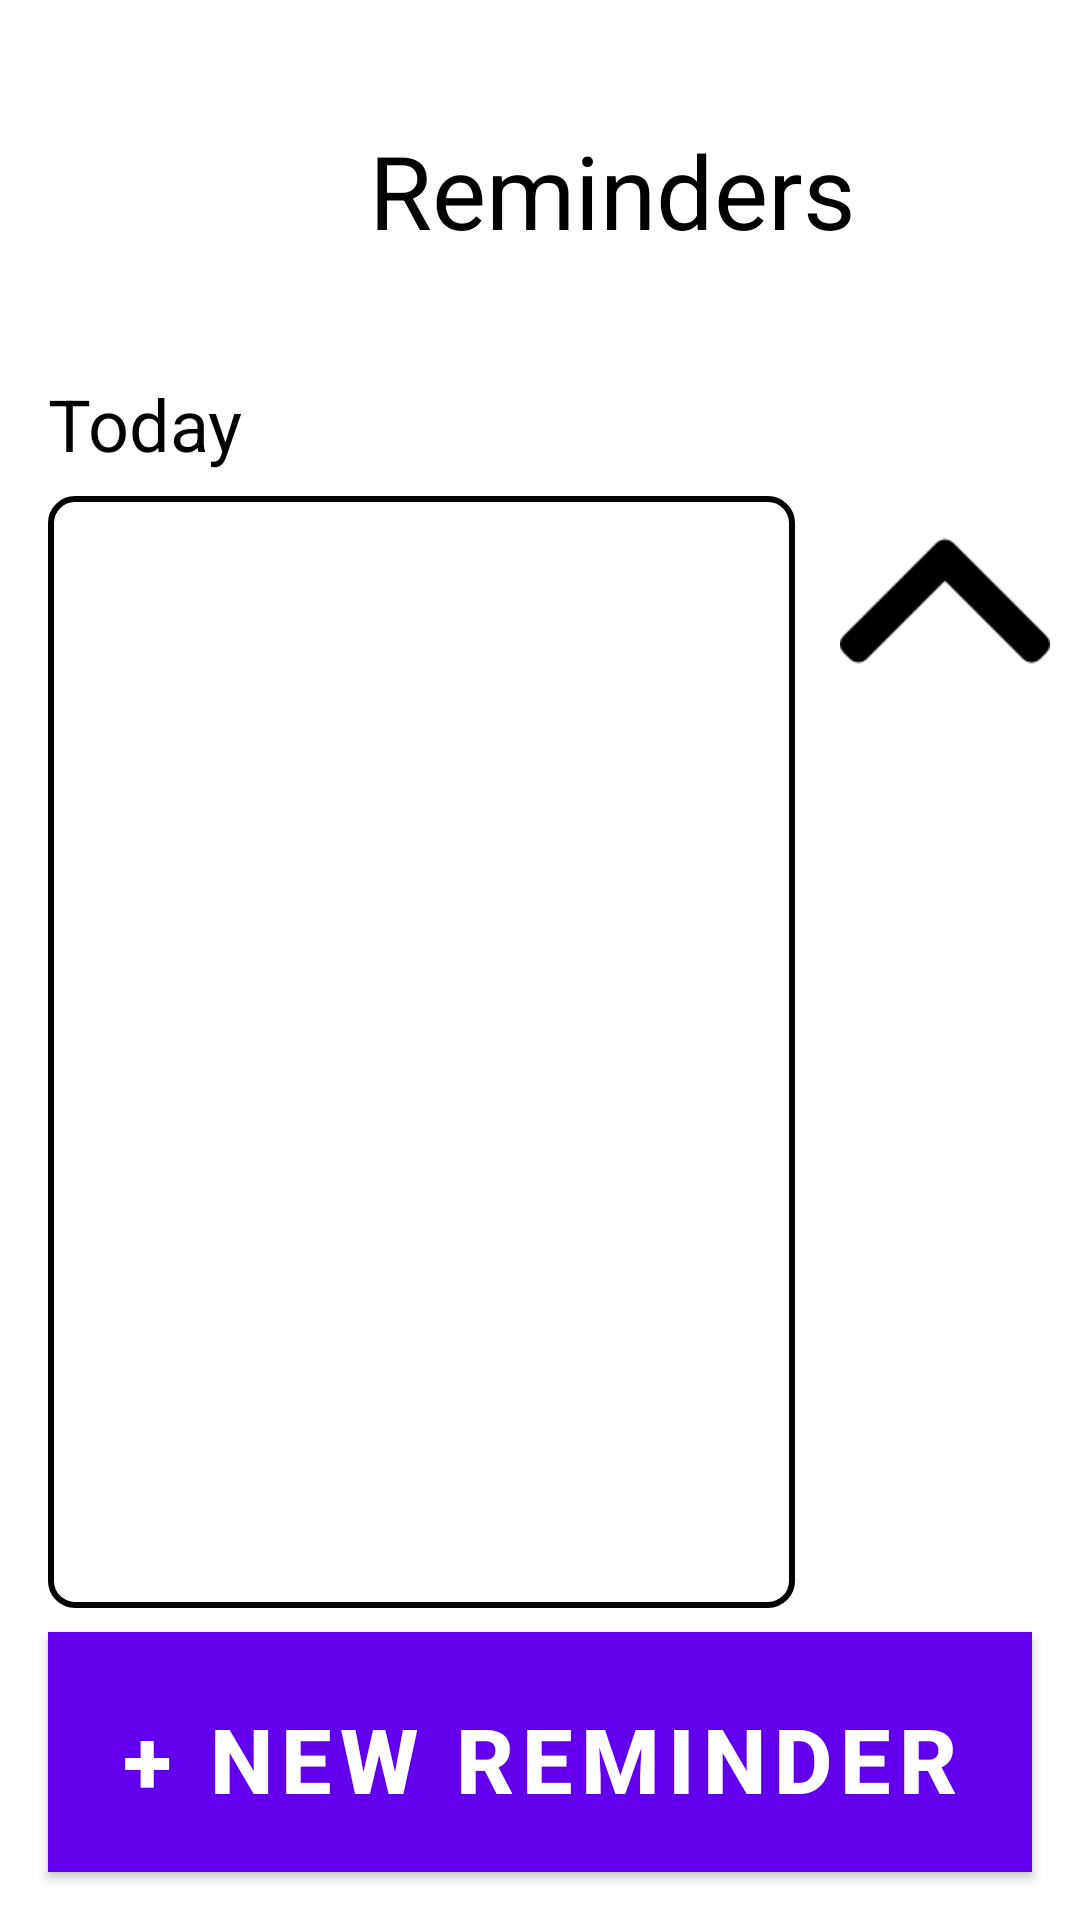

Where to tap for icons on this 1080px×1920px app screen, as (x=x, y=y):
Scroll Up: (x=945, y=601)
